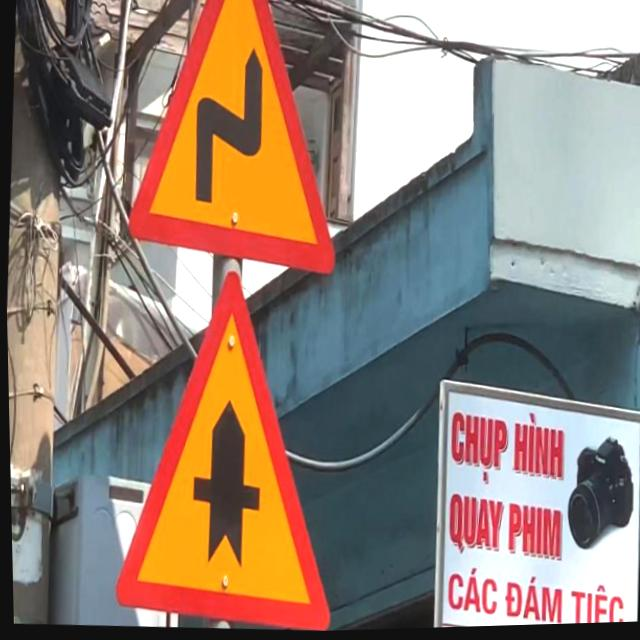Giao nhau voi duong khong uu tien: (100, 260, 351, 638)
Nhieu cho ngoat lien tiep ben phai: (115, 0, 356, 291)
